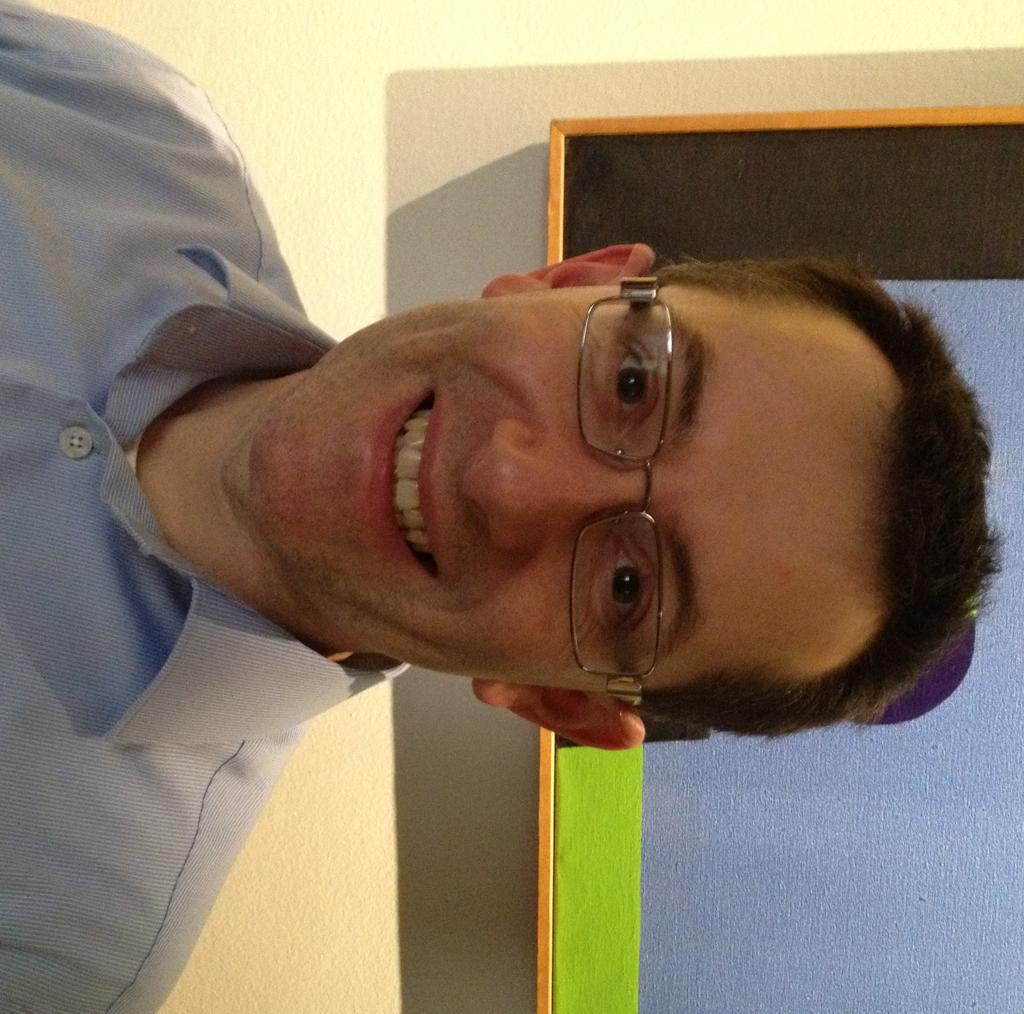face: (263, 285, 889, 669)
